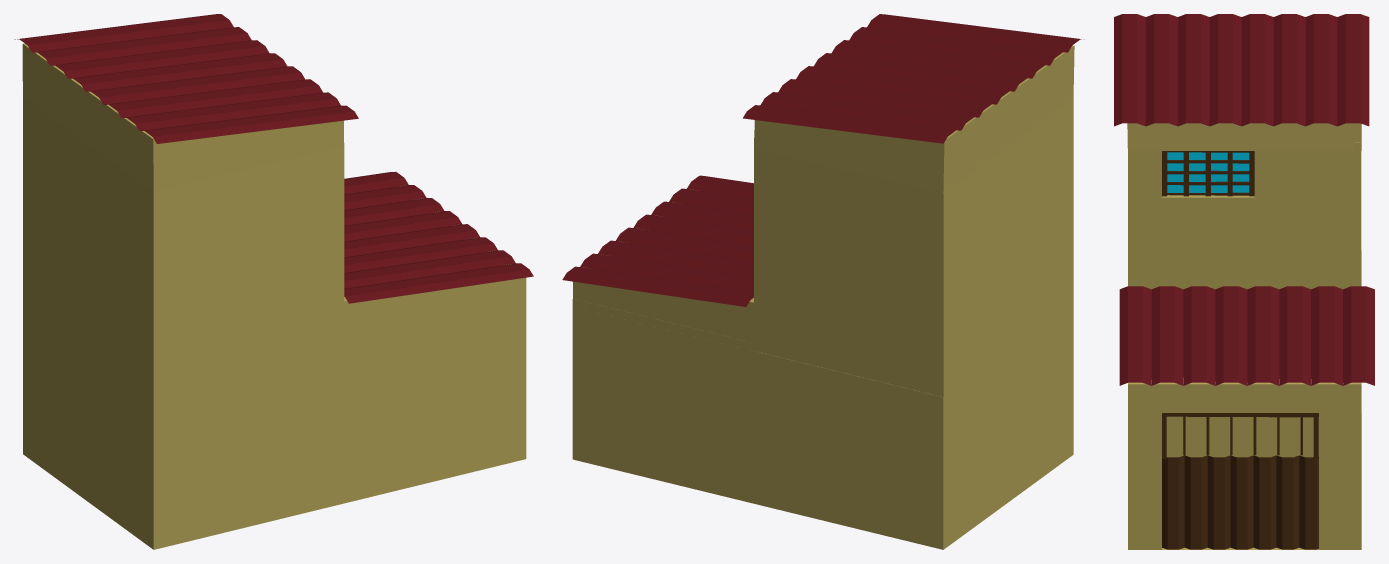
Rendered from casa cristhian.glb.
The picture shows the model from 3 angles, left to right: view 1: azimuth 30°, elevation 25°; view 2: azimuth 150°, elevation 25°; view 3: azimuth 270°, elevation 25°; orthographic projection. The views are drawn at different scales.
Visible parts, largest first — view 1: Cube, Plane.001, Plane; view 2: Cube, Plane.001, Plane; view 3: Cube, Plane.001, Plane, Cube.001, Cube.006, Cube.004, Cube.005, Cylinder, Cube.003, Cube.002.
Boxes of the visible parts, bbox=[...] form: Cube: bbox=[22, 43, 526, 549]; Plane.001: bbox=[14, 14, 358, 143]; Plane: bbox=[344, 171, 533, 303]; Cube: bbox=[572, 45, 1074, 549]; Plane.001: bbox=[743, 14, 1084, 143]; Plane: bbox=[562, 175, 753, 306]; Cube: bbox=[1127, 123, 1361, 549]; Plane.001: bbox=[1114, 14, 1369, 126]; Plane: bbox=[1119, 286, 1374, 385]; Cube.001: bbox=[1162, 455, 1318, 549]; Cube.006: bbox=[1167, 152, 1249, 192]; Cube.004: bbox=[1162, 151, 1254, 196]; Cube.005: bbox=[1167, 151, 1254, 195]; Cylinder: bbox=[1183, 416, 1302, 455]; Cube.003: bbox=[1166, 413, 1318, 417]; Cube.002: bbox=[1162, 413, 1318, 458].
Size of the model in its own units: 75.54 by 78.99 by 50.23.
